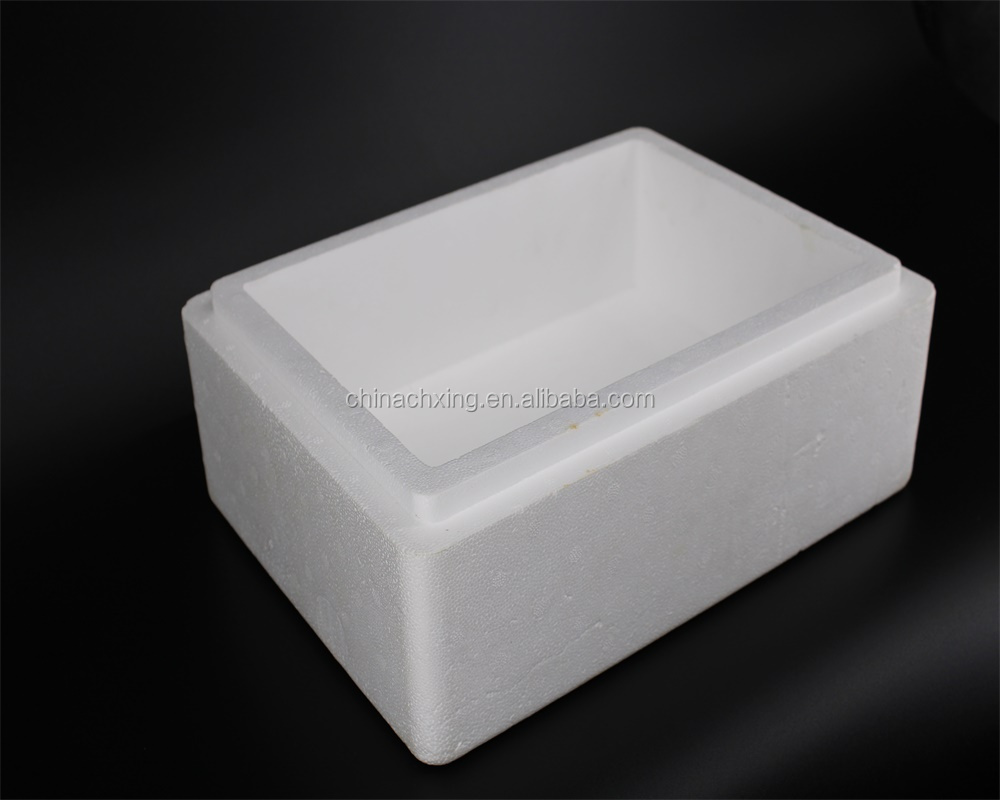Boxes: (182, 130, 934, 756)
